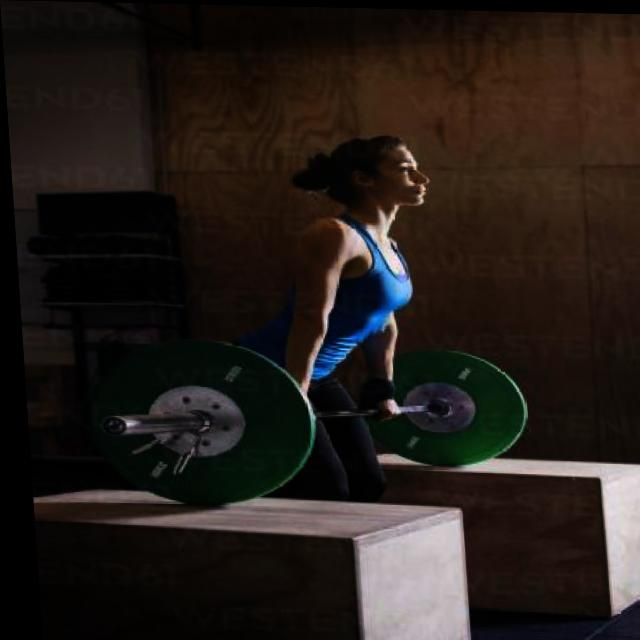barbell: (84, 332, 316, 511)
